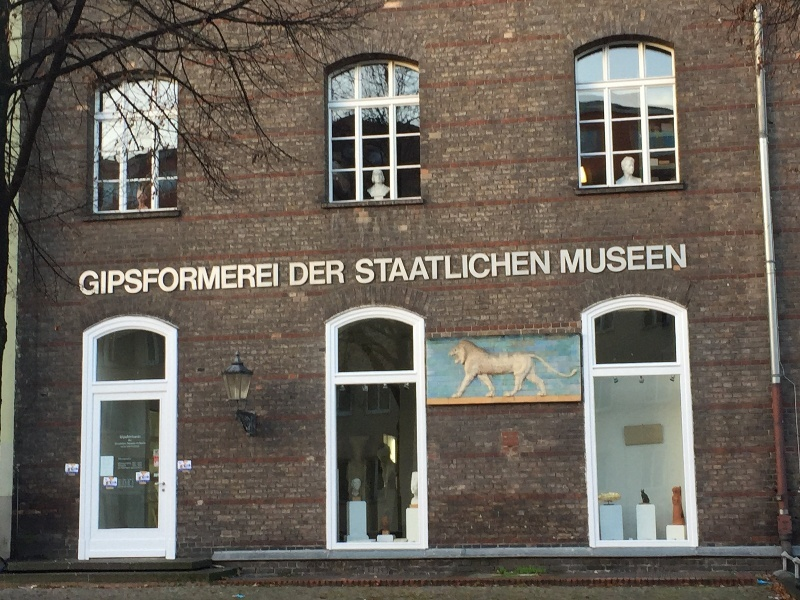text: (81, 262, 96, 298), (97, 262, 112, 298), (113, 262, 128, 298), (129, 262, 144, 298), (145, 262, 160, 298), (161, 262, 176, 298), (177, 262, 192, 298), (193, 262, 208, 298), (209, 262, 224, 298), (225, 262, 240, 298), (241, 262, 256, 298), (257, 262, 272, 298), (369, 250, 384, 285), (385, 250, 400, 285), (401, 250, 416, 285), (417, 250, 432, 285), (433, 250, 448, 285), (449, 250, 464, 285), (465, 250, 480, 285), (481, 250, 496, 285), (497, 250, 512, 285), (513, 250, 528, 285), (529, 250, 544, 285), (561, 243, 576, 275), (577, 243, 592, 275), (593, 243, 608, 275), (609, 243, 624, 275), (625, 243, 640, 275), (641, 243, 656, 275), (657, 243, 672, 275), (673, 243, 688, 275), (356, 250, 368, 285), (289, 260, 304, 287), (305, 260, 320, 287), (321, 260, 336, 287), (273, 262, 280, 298), (337, 260, 345, 287), (545, 250, 551, 285), (129, 435, 144, 449), (114, 435, 128, 449), (129, 458, 143, 470), (117, 458, 128, 470), (145, 435, 146, 449)
